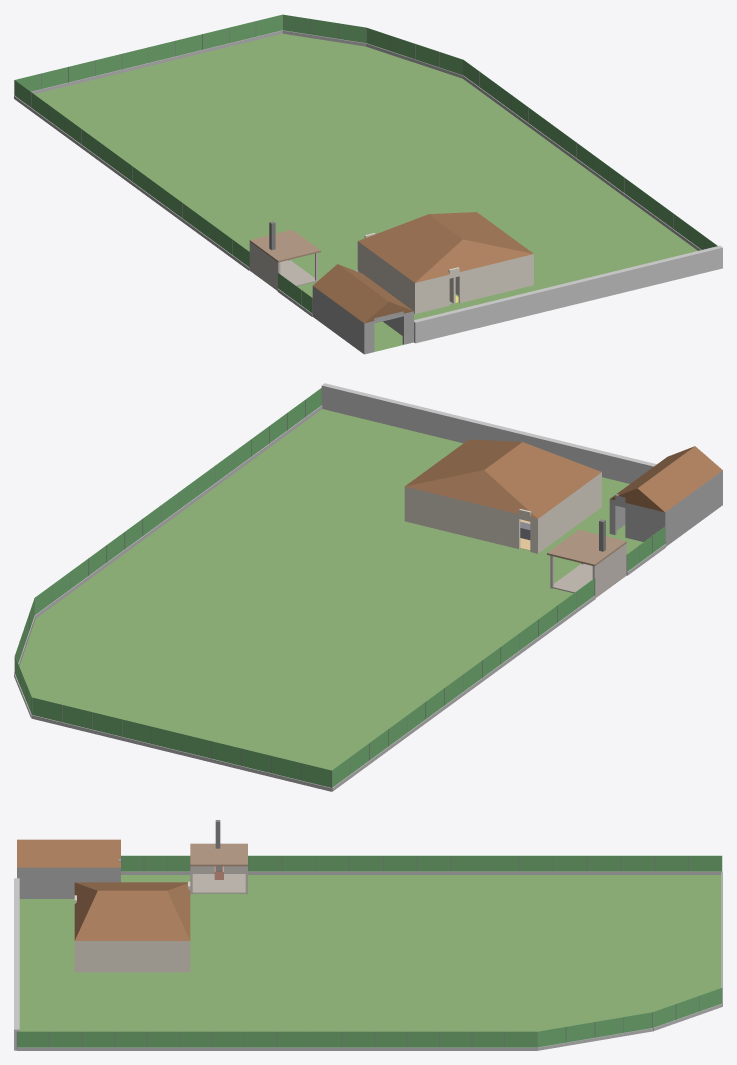
The model's file is parcel-with-roof.glb.
The picture shows the model from 3 angles, top to bottom: view 1: azimuth 30°, elevation 25°; view 2: azimuth 150°, elevation 25°; view 3: azimuth 270°, elevation 25°; orthographic projection. The views are drawn at different scales.
Visible parts, largest first — view 1: Parcel, Street_Wall, House_Roof, Fence_4_mesh, Fence_1_mesh, Fence_Left_Back_mesh, Garage_Roof, House_Front_R, House_Left, Garage_Left, Fence_2_mesh, Fence_3_mesh (+8 smaller); view 2: Parcel, House_Roof, Street_Wall, Fence_4_mesh, Fence_1_mesh, Fence_Left_Back_mesh, House_Back_R, Garage_Roof, House_Left, Garage_Left, SK_Roof, Fence_1_concrete (+6 smaller); view 3: Parcel, Fence_1_mesh, Fence_Left_Back_mesh, House_Roof, House_Right, Garage_Roof, Garage_Right, Fence_1_concrete, Fence_2_mesh, Fence_Left_Back_concrete, SK_Roof, Fence_Left_Mid_mesh (+4 smaller).
Part boxes in pixels (box(x1,y1,x2,y2)): Parcel: box(35, 33, 697, 351); Street_Wall: box(414, 245, 722, 343); House_Roof: box(358, 212, 533, 282); Fence_4_mesh: box(15, 14, 282, 91); Fence_1_mesh: box(463, 60, 717, 249); Fence_Left_Back_mesh: box(14, 80, 249, 266); Garage_Roof: box(313, 264, 413, 323); House_Front_R: box(458, 254, 531, 303); House_Left: box(357, 241, 416, 313); Garage_Left: box(312, 286, 366, 354); Fence_2_mesh: box(367, 28, 463, 75); Fence_3_mesh: box(283, 14, 366, 42); Parcel: box(19, 409, 643, 770); House_Roof: box(405, 439, 601, 518); Street_Wall: box(321, 383, 656, 483); Fence_4_mesh: box(32, 697, 331, 787); Fence_1_mesh: box(35, 388, 321, 614); Fence_Left_Back_mesh: box(332, 578, 594, 787); House_Back_R: box(407, 487, 520, 548); Garage_Roof: box(610, 446, 722, 512); House_Left: box(535, 472, 601, 553); Garage_Left: box(663, 470, 722, 546); SK_Roof: box(547, 529, 626, 566); Fence_1_concrete: box(35, 405, 322, 618); Parcel: box(19, 875, 721, 1031); Fence_1_mesh: box(17, 1031, 536, 1047); Fence_Left_Back_mesh: box(248, 855, 721, 871); House_Roof: box(74, 882, 190, 940); House_Right: box(74, 941, 190, 972); Garage_Roof: box(17, 839, 120, 867); Garage_Right: box(17, 867, 120, 898); Fence_1_concrete: box(17, 1047, 536, 1050); Fence_2_mesh: box(537, 1012, 652, 1047); Fence_Left_Back_concrete: box(248, 871, 721, 874); SK_Roof: box(190, 843, 247, 866); Fence_Left_Mid_mesh: box(121, 855, 189, 871).
Size of the model in its own units: 36.15 by 5.5 by 61.33.
